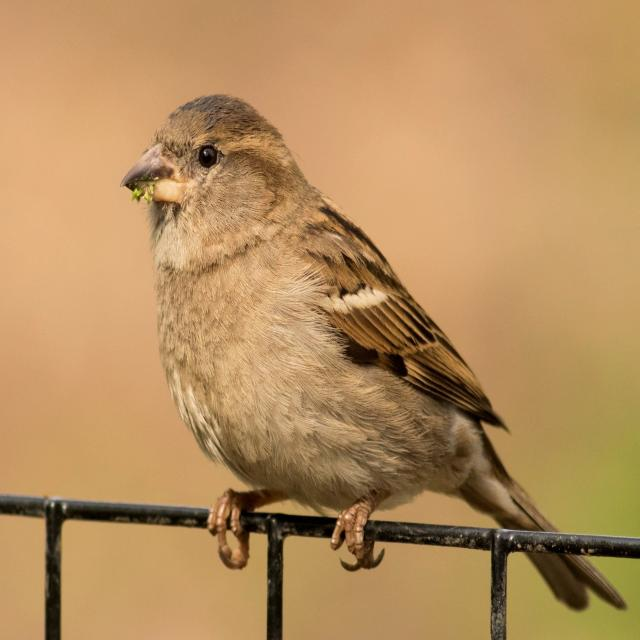Sparrow: (124, 83, 620, 620)
